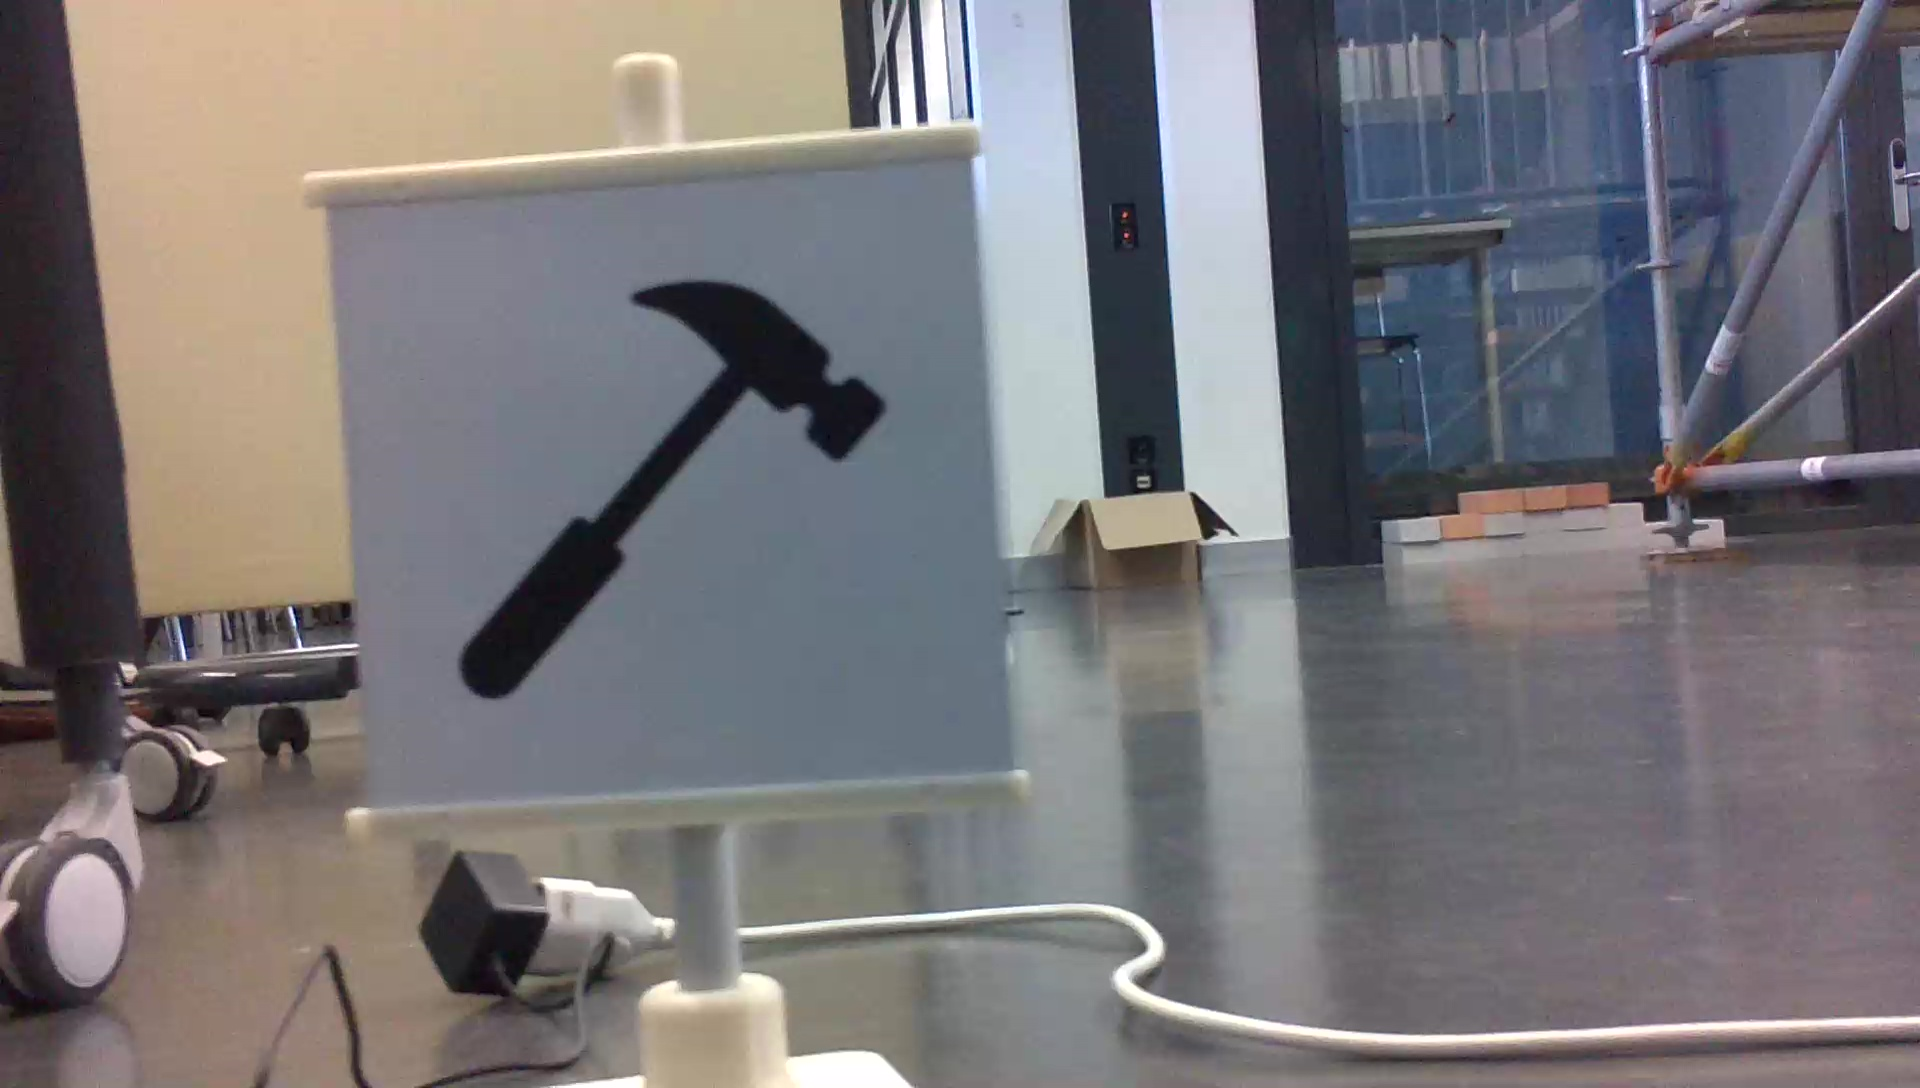hammer: (440, 270, 895, 719)
